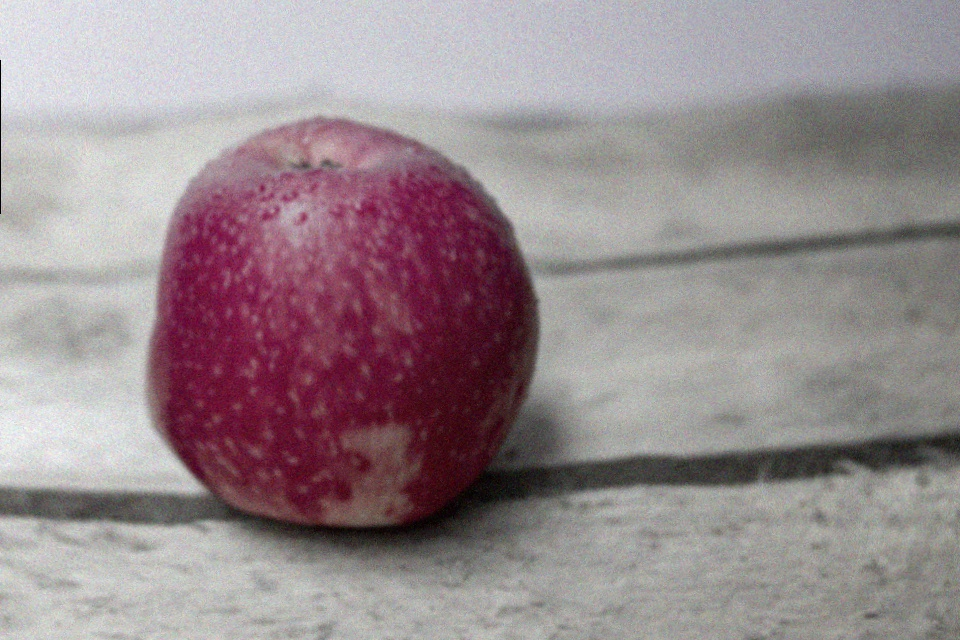apple: (101, 115, 564, 549)
